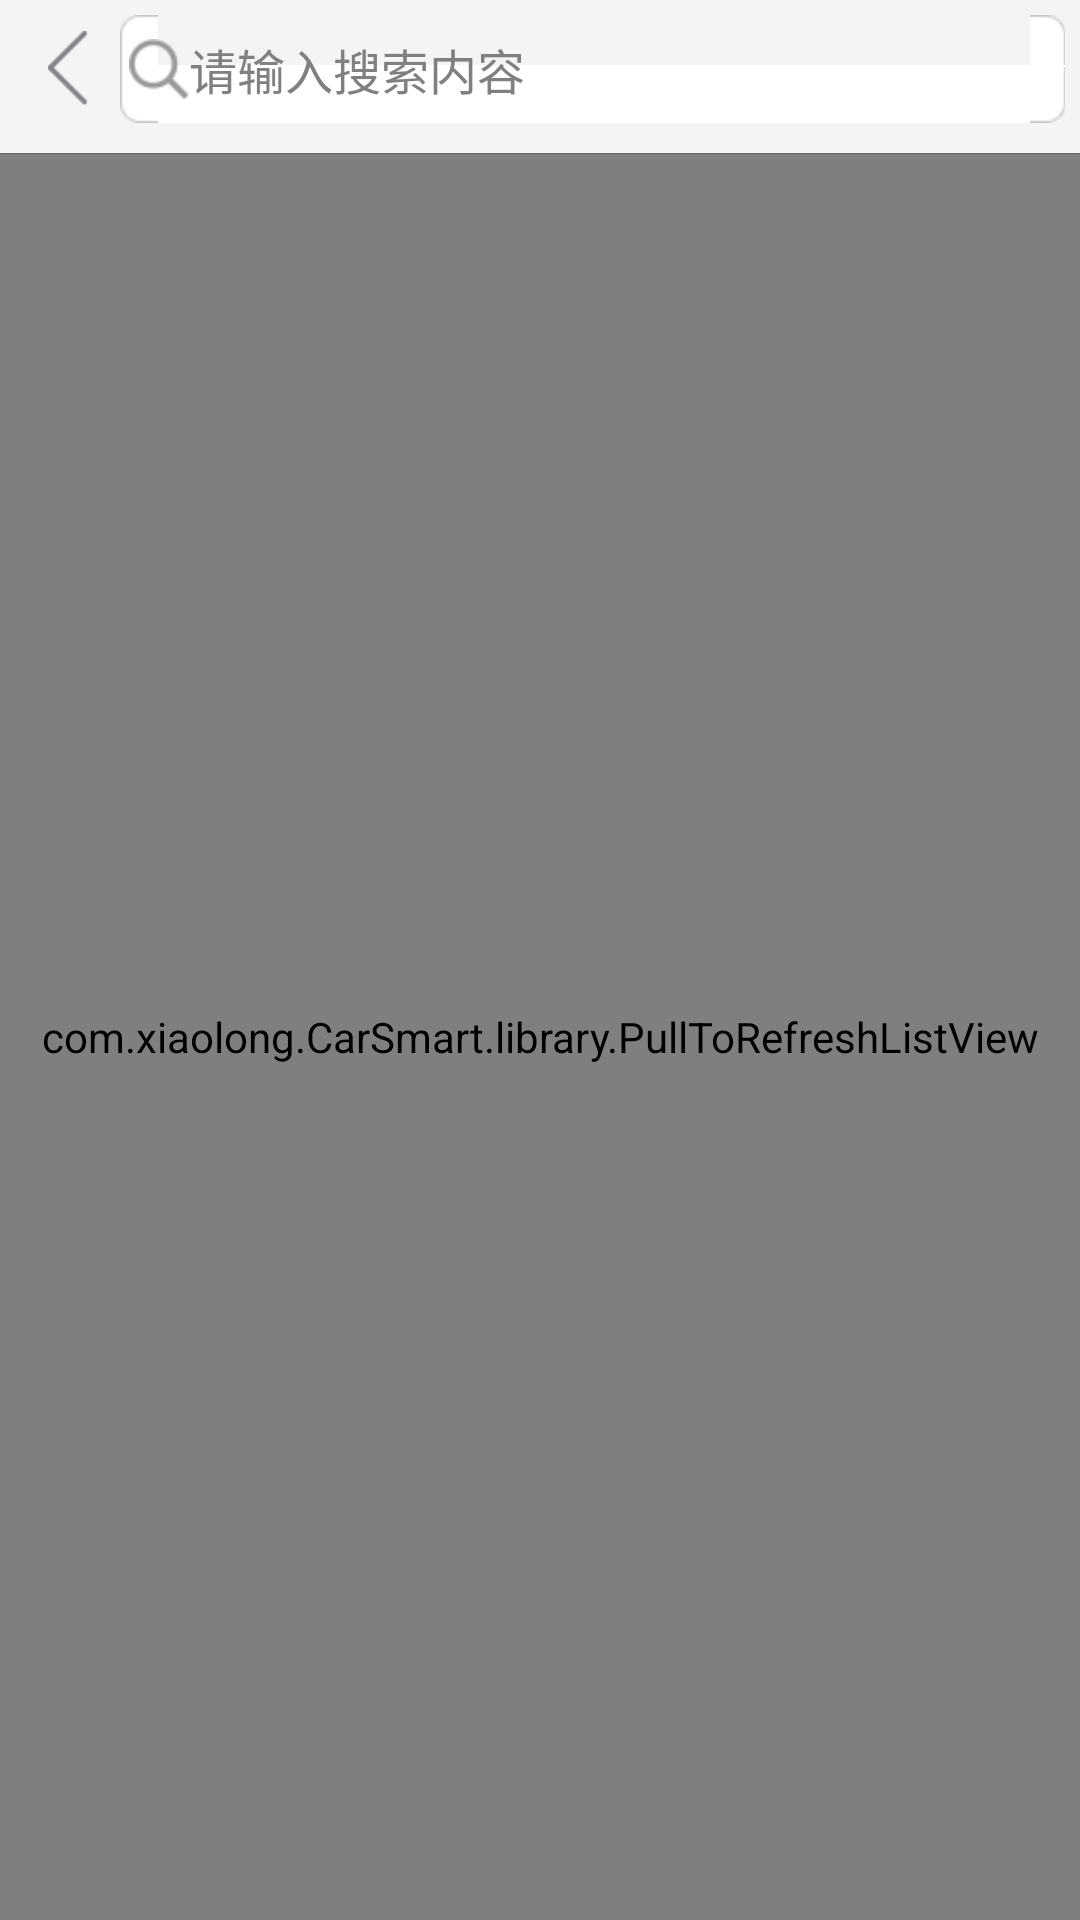

Screen size 1080px×1920px. Icon name, then its box in pixels as BBox(x1, y1, x2, y2):
back: BBox(48, 31, 87, 105)
